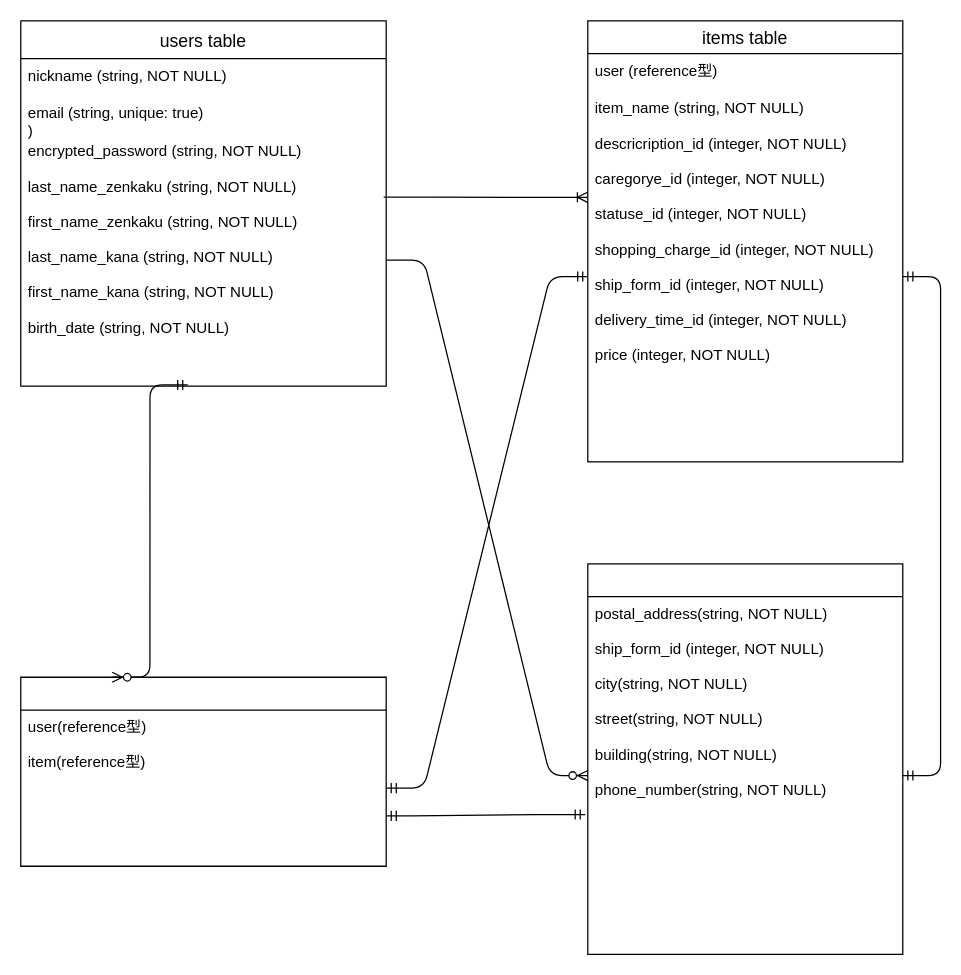
Some shapes in this 961 by 975 pixel diagram are drawn without their labels. The shapes that lost their labels are listed below. From the top down, each one's box as (x1, y1, x2, y2) in pixels, then its label:
(20, 676, 386, 866): records_list table
(587, 563, 903, 954): addresses table
